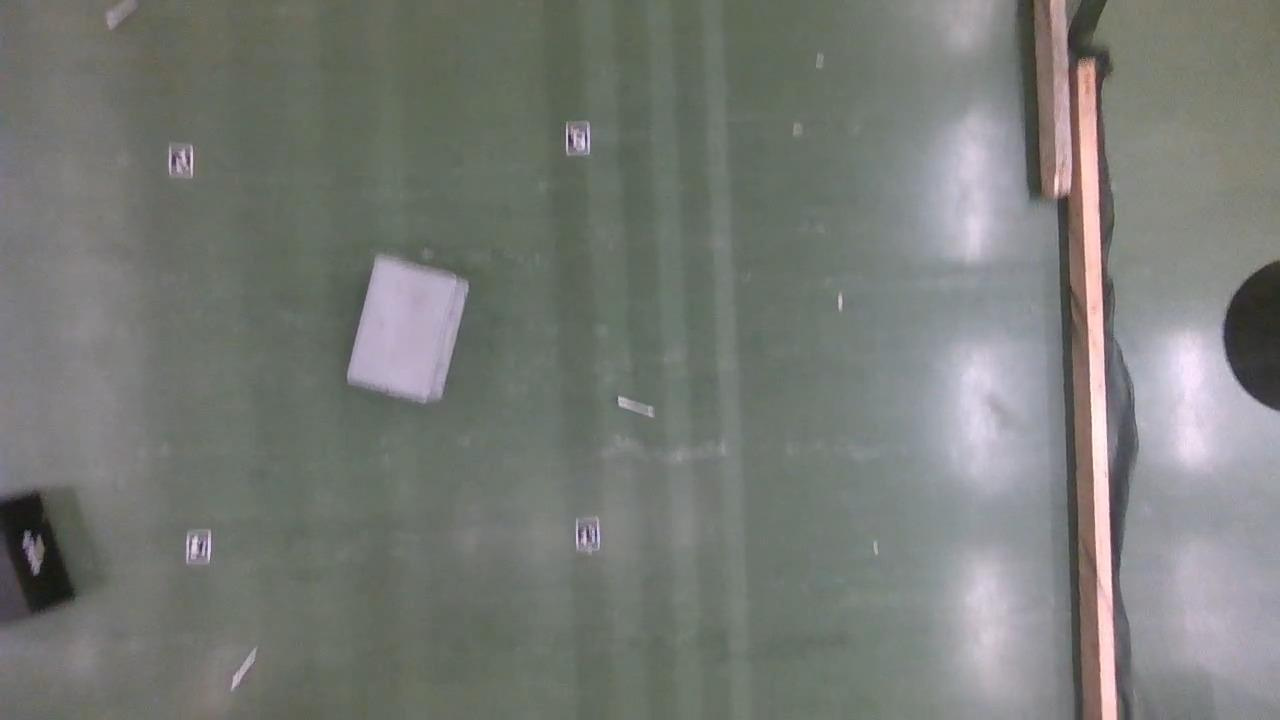probes: (230, 645, 256, 691), (105, 0, 138, 29), (616, 394, 655, 418)
rako: (346, 255, 467, 402)
